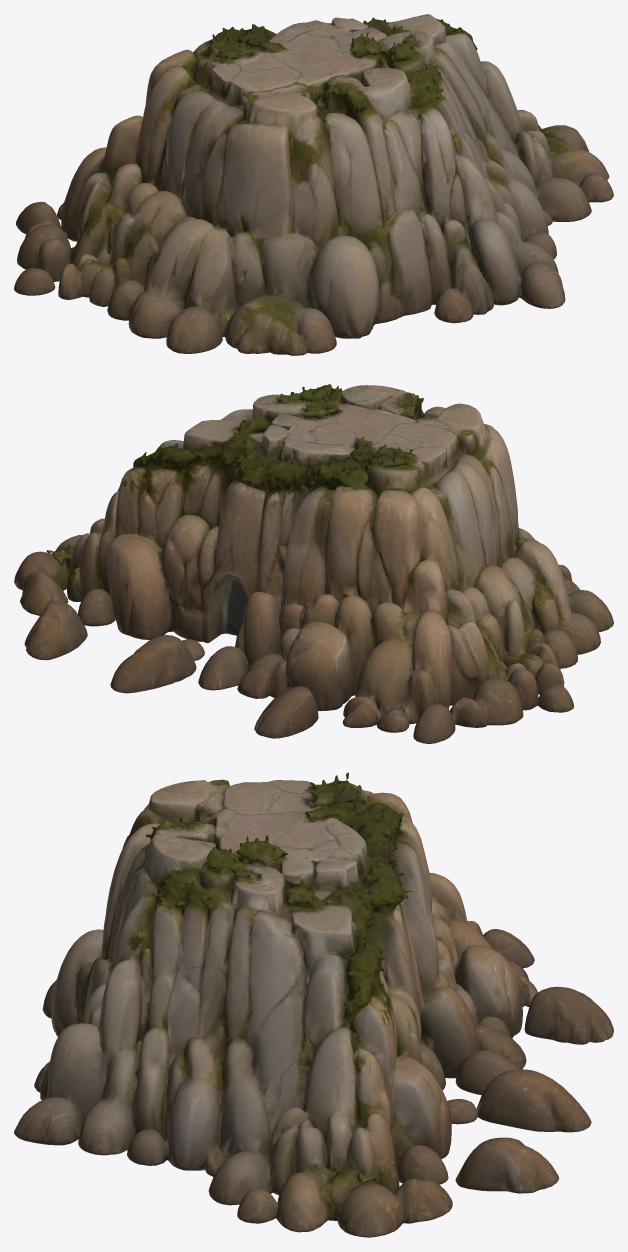
File: cliff.glb
3 views of the same model, one above another, from view 1: azimuth 30°, elevation 25°; view 2: azimuth 150°, elevation 25°; view 3: azimuth 270°, elevation 25° (orthographic). The views are drawn at different scales.
Visible parts, largest first — view 1: tripo_node_22485a8e-7f74-45aa-8110-8c3fb36bd0d9; view 2: tripo_node_22485a8e-7f74-45aa-8110-8c3fb36bd0d9; view 3: tripo_node_22485a8e-7f74-45aa-8110-8c3fb36bd0d9.
Boxes of the visible parts, x1=… form: tripo_node_22485a8e-7f74-45aa-8110-8c3fb36bd0d9: x1=14, y1=14, x2=613, y2=355; tripo_node_22485a8e-7f74-45aa-8110-8c3fb36bd0d9: x1=14, y1=384, x2=613, y2=743; tripo_node_22485a8e-7f74-45aa-8110-8c3fb36bd0d9: x1=14, y1=772, x2=613, y2=1237.
Bounding box in the file's own units: 0.9999 × 0.3699 × 0.7852.
Materials: 1 (1 with a texture image).
